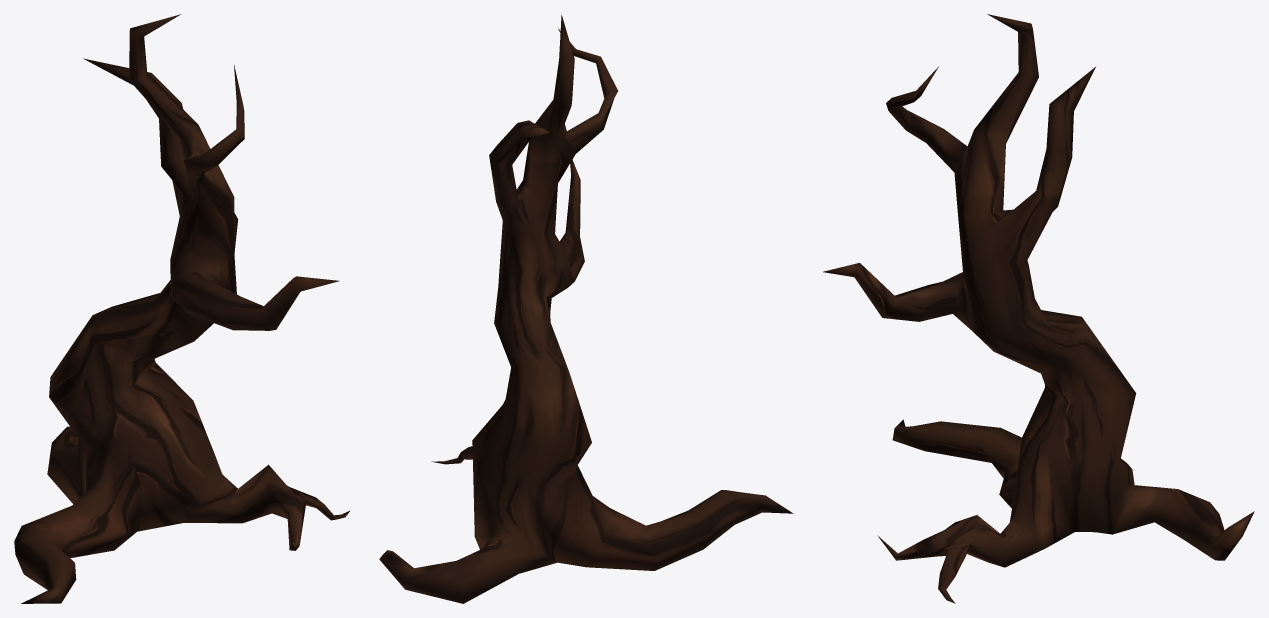
File: SM_ENV_tree_dead_01.fbx
The picture shows the model from 3 angles, left to right: view 1: azimuth 30°, elevation 25°; view 2: azimuth 150°, elevation 25°; view 3: azimuth 270°, elevation 25°; orthographic projection. The views are drawn at different scales.
Visible parts, largest first — view 1: SM_ENV_tree_dead_01; view 2: SM_ENV_tree_dead_01; view 3: SM_ENV_tree_dead_01.
Part boxes in pixels (x1,y1,x2,y2): SM_ENV_tree_dead_01: (14,14,350,603); SM_ENV_tree_dead_01: (379,15,793,603); SM_ENV_tree_dead_01: (823,14,1254,603).
Bounding box in the file's own units: 456 × 658 × 484.
